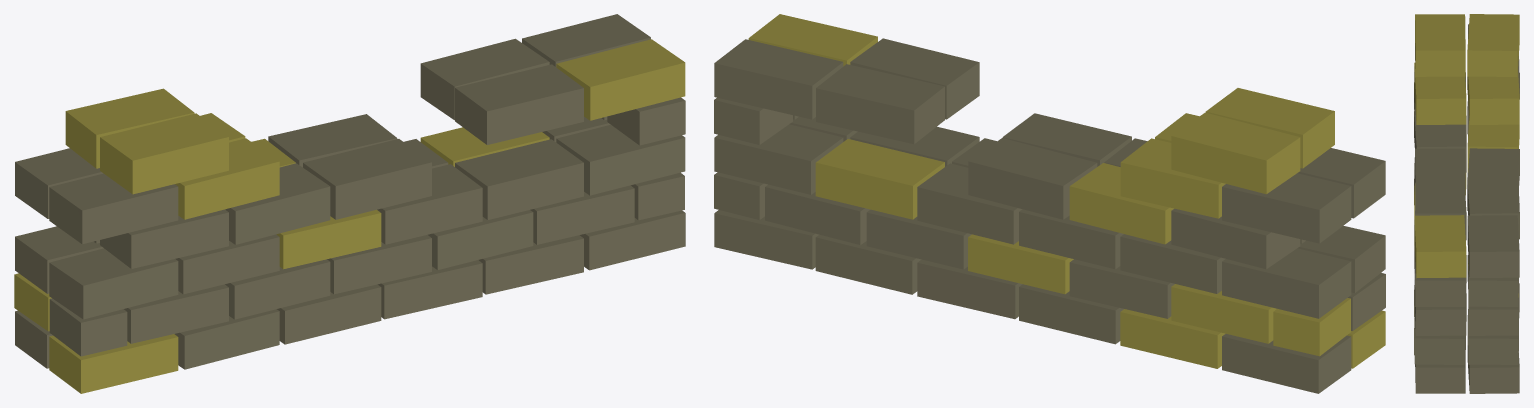
Rendered from SM_PretilTramo_v2_Irregular_e0_Sano_LOD0.fbx.
3 renders of one model, left to right at view 1: azimuth 30°, elevation 25°; view 2: azimuth 150°, elevation 25°; view 3: azimuth 270°, elevation 25°, orthographic. The views are drawn at different scales.
Visible parts, largest first — view 1: SM_pretil_azotea_v8_LOD0; view 2: SM_pretil_azotea_v8_LOD0; view 3: SM_pretil_azotea_v8_LOD0.
Part boxes in pixels (<box>): SM_pretil_azotea_v8_LOD0: <box>14,14,685,393</box>; SM_pretil_azotea_v8_LOD0: <box>714,14,1385,393</box>; SM_pretil_azotea_v8_LOD0: <box>1414,14,1519,393</box>.
Bounding box in the file's own units: 5.07 × 1.77 × 0.9939.
